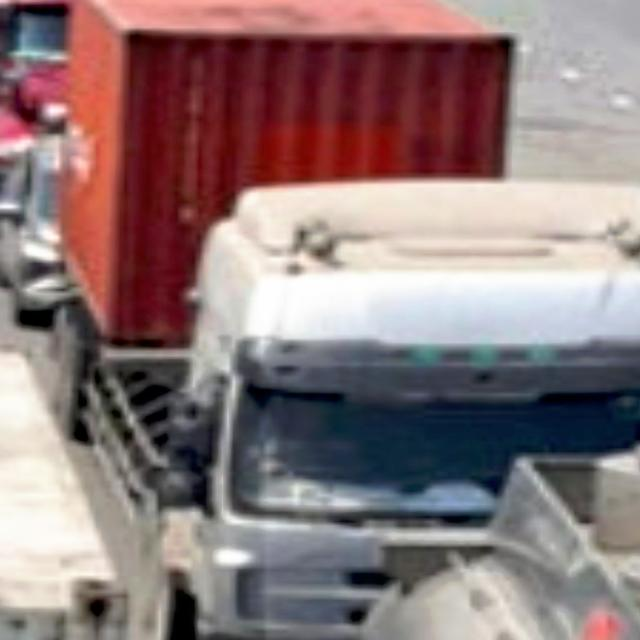Car: (60, 35, 611, 634)
